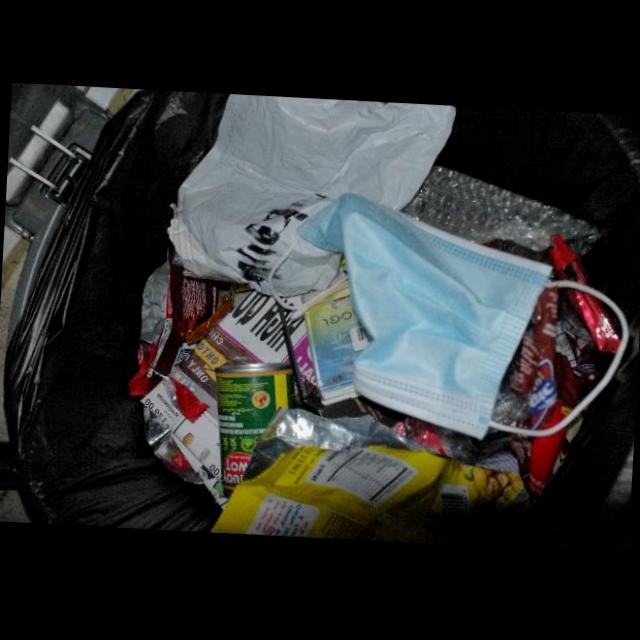bao_bi_thuc_pham: (210, 406, 524, 545), (489, 235, 628, 500), (128, 241, 254, 422)
khau_trang: (297, 193, 553, 440)
nhom: (214, 362, 296, 489)
tui_ni_long: (167, 93, 456, 294)
